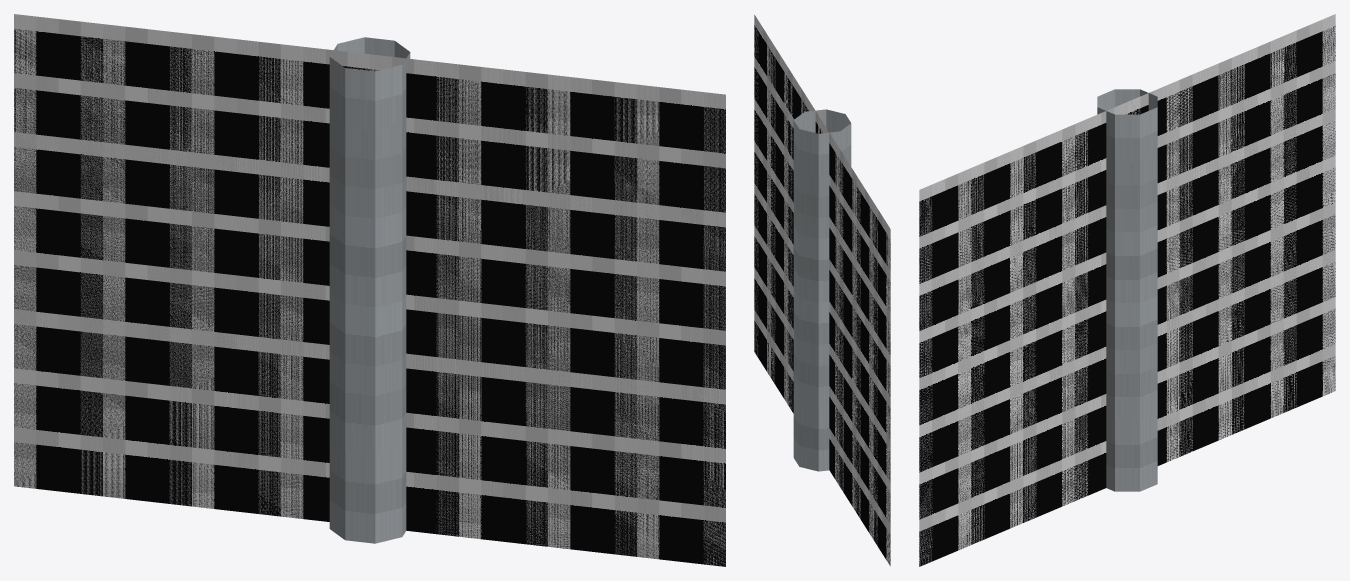
File: net_diagonal_10.obj
The picture shows the model from 3 angles, left to right: view 1: azimuth 30°, elevation 25°; view 2: azimuth 150°, elevation 25°; view 3: azimuth 270°, elevation 25°; orthographic projection. The views are drawn at different scales.
Visible parts, largest first — view 1: net_diagonal_10; view 2: net_diagonal_10; view 3: net_diagonal_10.
Boxes of the visible parts, x1=… form: net_diagonal_10: x1=14, y1=14, x2=725, y2=566; net_diagonal_10: x1=754, y1=14, x2=890, y2=566; net_diagonal_10: x1=919, y1=14, x2=1335, y2=566.
Bounding box in the file's own units: 1 × 1 × 1.
